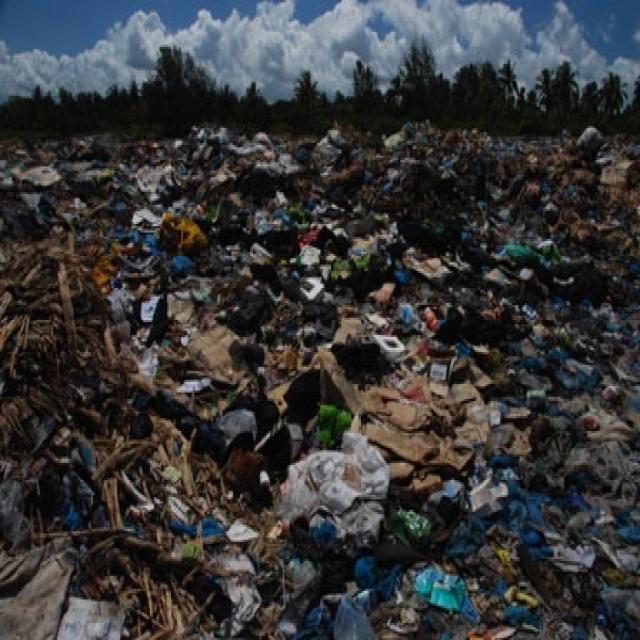garbage: (0, 145, 639, 640)
